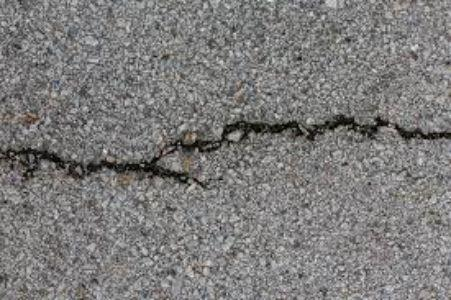crack: (3, 104, 447, 196)
